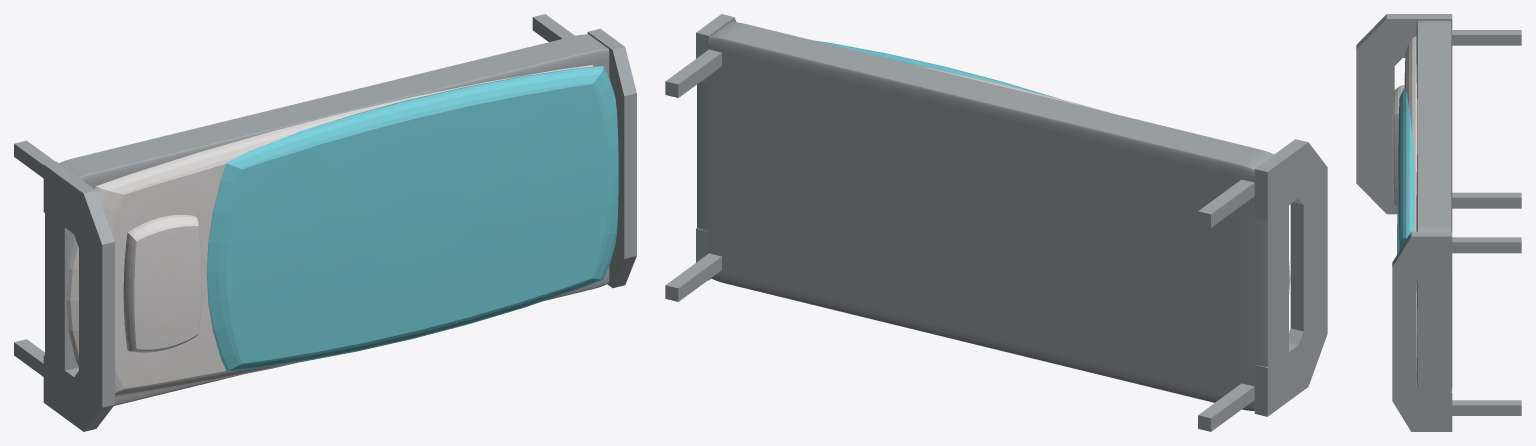
File: bed_light_blue.obj
The picture shows the model from 3 angles, left to right: view 1: azimuth 30°, elevation 25°; view 2: azimuth 150°, elevation 25°; view 3: azimuth 270°, elevation 25°; orthographic projection. The views are drawn at different scales.
Visible parts, largest first — view 1: obj_9, obj_0, obj_1, obj_7, obj_2, obj_8, obj_3, obj_4, obj_6; view 2: obj_0, obj_7, obj_6, obj_3, obj_5, obj_4, obj_8, obj_9; view 3: obj_0, obj_7, obj_8, obj_9, obj_1, obj_4, obj_6, obj_3, obj_5, obj_2.
Part boxes in pixels (x1=…): obj_9: x1=206, y1=66, x2=618, y2=371; obj_0: x1=45, y1=34, x2=609, y2=405; obj_1: x1=66, y1=65, x2=593, y2=396; obj_7: x1=43, y1=161, x2=114, y2=431; obj_2: x1=123, y1=214, x2=202, y2=352; obj_8: x1=587, y1=28, x2=636, y2=288; obj_3: x1=14, y1=140, x2=54, y2=178; obj_4: x1=14, y1=339, x2=44, y2=376; obj_6: x1=532, y1=14, x2=574, y2=41; obj_0: x1=697, y1=22, x2=1288, y2=410; obj_7: x1=1254, y1=139, x2=1327, y2=416; obj_6: x1=665, y1=49, x2=721, y2=97; obj_3: x1=1198, y1=179, x2=1254, y2=227; obj_5: x1=665, y1=253, x2=721, y2=301; obj_4: x1=1198, y1=383, x2=1254, y2=431; obj_8: x1=696, y1=14, x2=736, y2=280; obj_9: x1=813, y1=40, x2=1059, y2=98; obj_0: x1=1416, y1=20, x2=1452, y2=422; obj_7: x1=1356, y1=14, x2=1452, y2=214; obj_8: x1=1392, y1=231, x2=1452, y2=431; obj_9: x1=1397, y1=88, x2=1414, y2=254; obj_1: x1=1404, y1=36, x2=1417, y2=380; obj_4: x1=1452, y1=192, x2=1521, y2=208; obj_6: x1=1452, y1=237, x2=1521, y2=253; obj_3: x1=1452, y1=30, x2=1521, y2=45; obj_5: x1=1452, y1=400, x2=1521, y2=415; obj_2: x1=1392, y1=85, x2=1404, y2=205.
Bounding box in the file's own units: 22 × 9 × 6.9.
